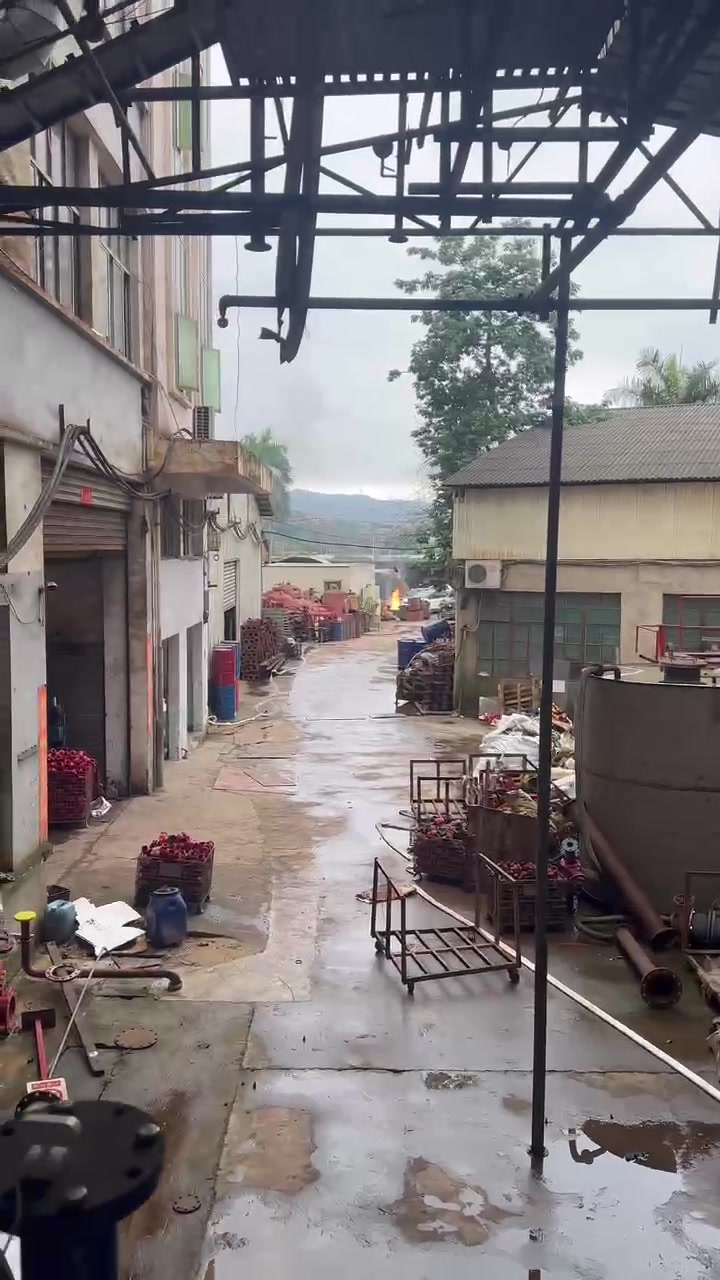fire: (388, 585, 399, 608)
